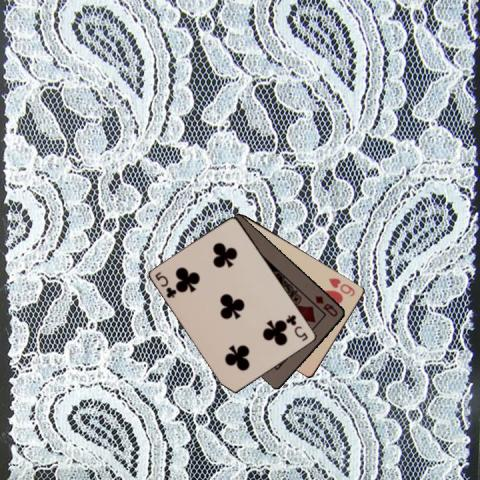5c: (152, 269, 178, 299), (284, 312, 309, 343)
6h: (326, 275, 357, 298)
Qd: (312, 293, 339, 318)
